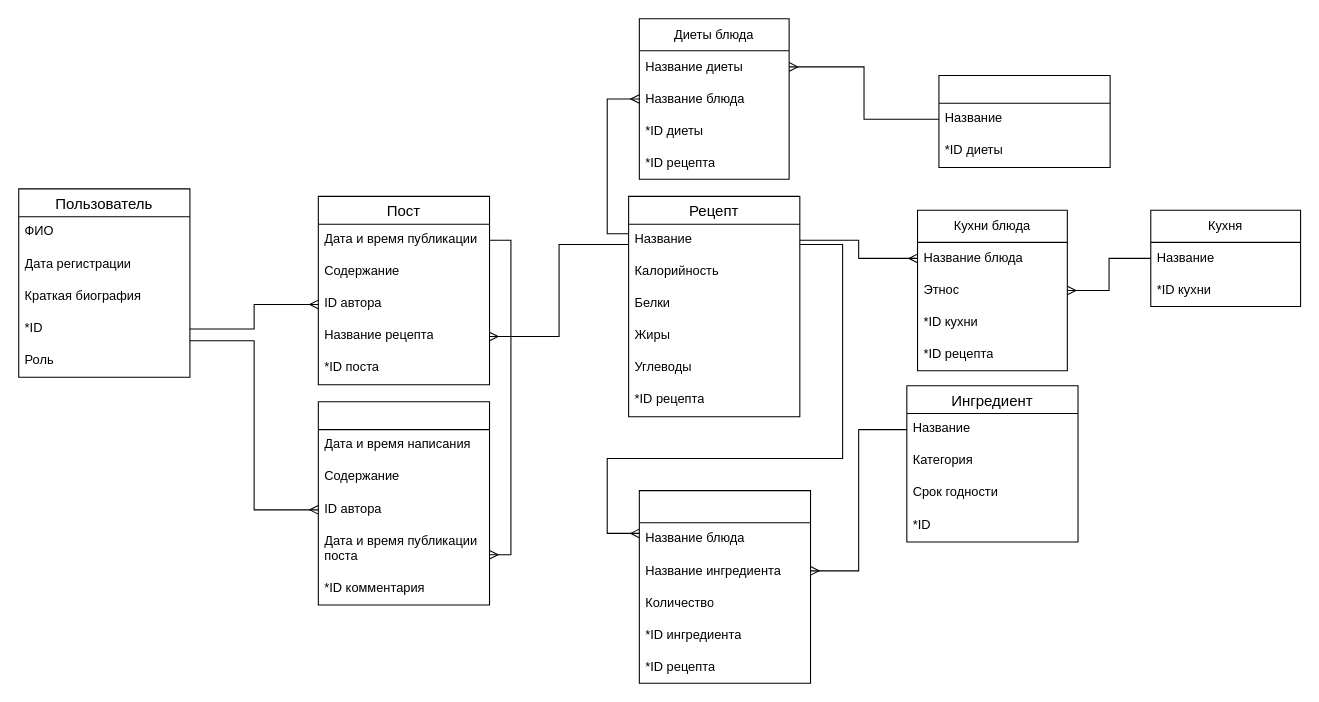
This 1319x702 diagram has some shape labels left out. Each missing label, with the box of its shape:
Диета: (938, 74, 1110, 167)
Ингредиенты для блюда: (638, 490, 811, 683)
Комментарий: (317, 401, 490, 605)
